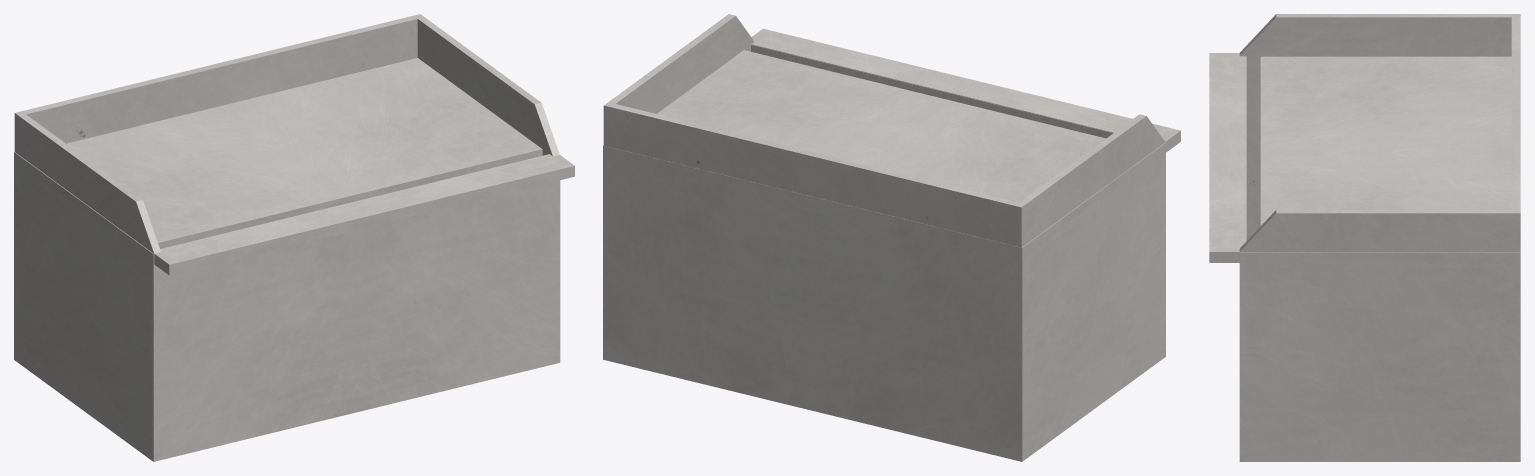
The model's file is Grill.fbx.
3 renders of one model, left to right at view 1: azimuth 30°, elevation 25°; view 2: azimuth 150°, elevation 25°; view 3: azimuth 270°, elevation 25°, orthographic. The views are drawn at different scales.
Visible parts, largest first — view 1: Grill; view 2: Grill; view 3: Grill.
Boxes of the visible parts, x1,y1,x2,y2 form: Grill: (14,14,574,461); Grill: (603,14,1180,461); Grill: (1209,14,1520,461).
Bounding box in the file's own units: 221 × 128 × 146.
